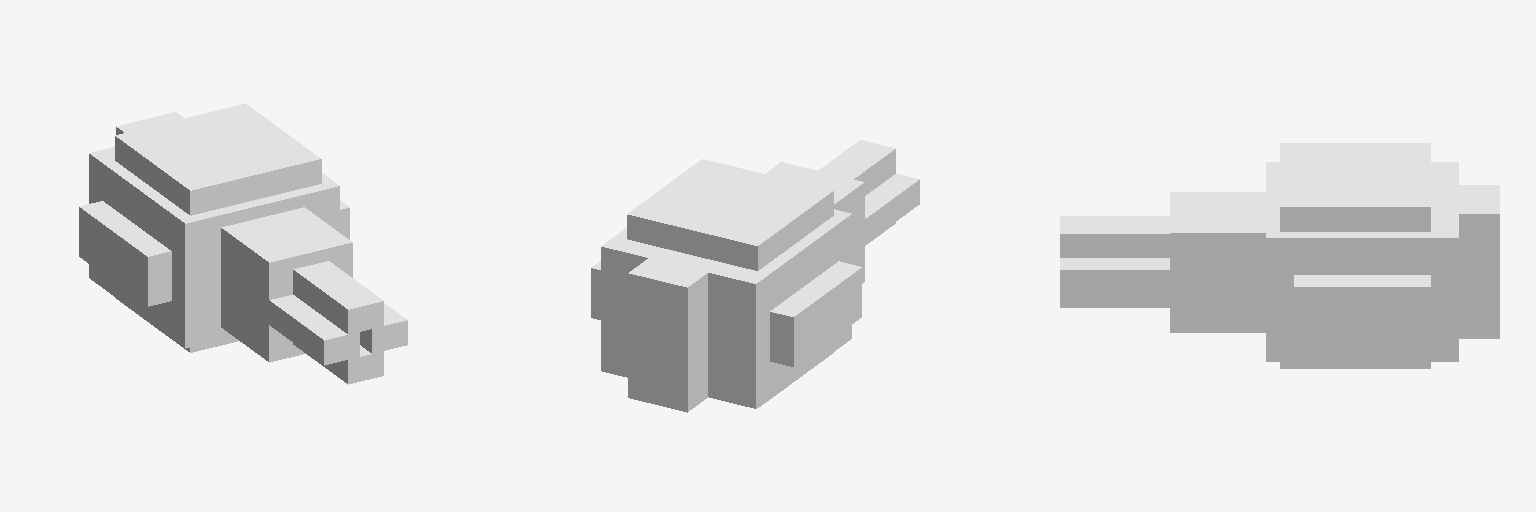
Rendered from RapidTower0_Top.obj.
The picture shows the model from 3 angles: view 1: azimuth 30°, elevation 25°; view 2: azimuth 150°, elevation 25°; view 3: azimuth 270°, elevation 25°; orthographic projection.
Visible parts, largest first — view 1: RapidTower0_Top; view 2: RapidTower0_Top; view 3: RapidTower0_Top.
Part boxes in pixels (left/top/right/bottom): RapidTower0_Top: left=79, top=104, right=407, bottom=384; RapidTower0_Top: left=591, top=140, right=919, bottom=412; RapidTower0_Top: left=1060, top=143, right=1499, bottom=368.
Size of the model in its own units: 17 by 13 by 32.